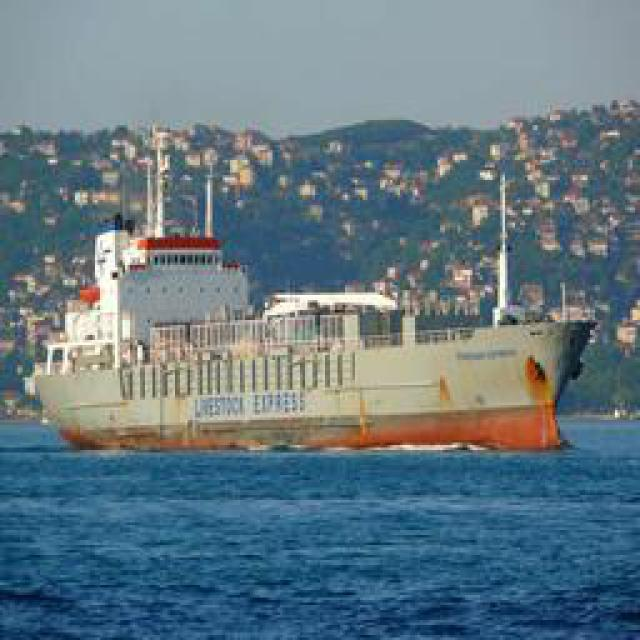Ship: (26, 212, 594, 455)
